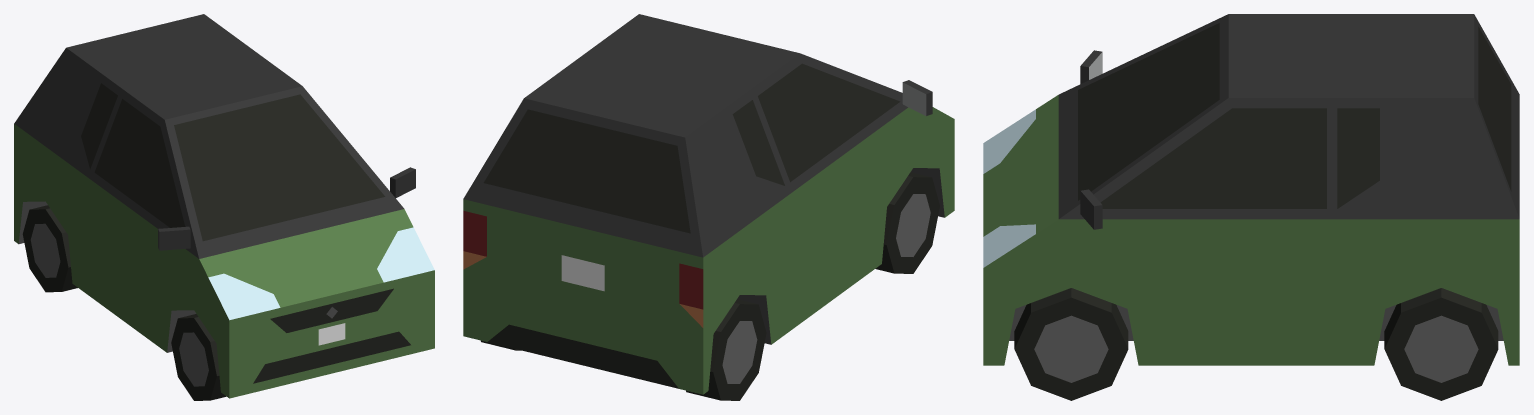
File: Veh_Microcar_Green.glb
3 renders of one model, left to right at view 1: azimuth 30°, elevation 25°; view 2: azimuth 150°, elevation 25°; view 3: azimuth 270°, elevation 25°, orthographic. The views are drawn at different scales.
Visible parts, largest first — view 1: Microcar_Green, Wheel_FR, Wheel_RR; view 2: Microcar_Green, Wheel_RR, Wheel_FR; view 3: Microcar_Green, Wheel_FL, Wheel_RL.
Part boxes in pixels (x1,y1,x2,y2): Microcar_Green: (14,14,434,398); Wheel_FR: (171,314,226,400); Wheel_RR: (22,205,77,292); Microcar_Green: (463,14,954,394); Wheel_RR: (686,299,766,400); Wheel_FR: (875,172,939,273); Microcar_Green: (983,14,1519,365); Wheel_FL: (1014,288,1128,400); Wheel_RL: (1384,288,1498,400).
Size of the model in its own units: 0.9194 by 0.7766 by 1.34.
1 material, 1 textured.
